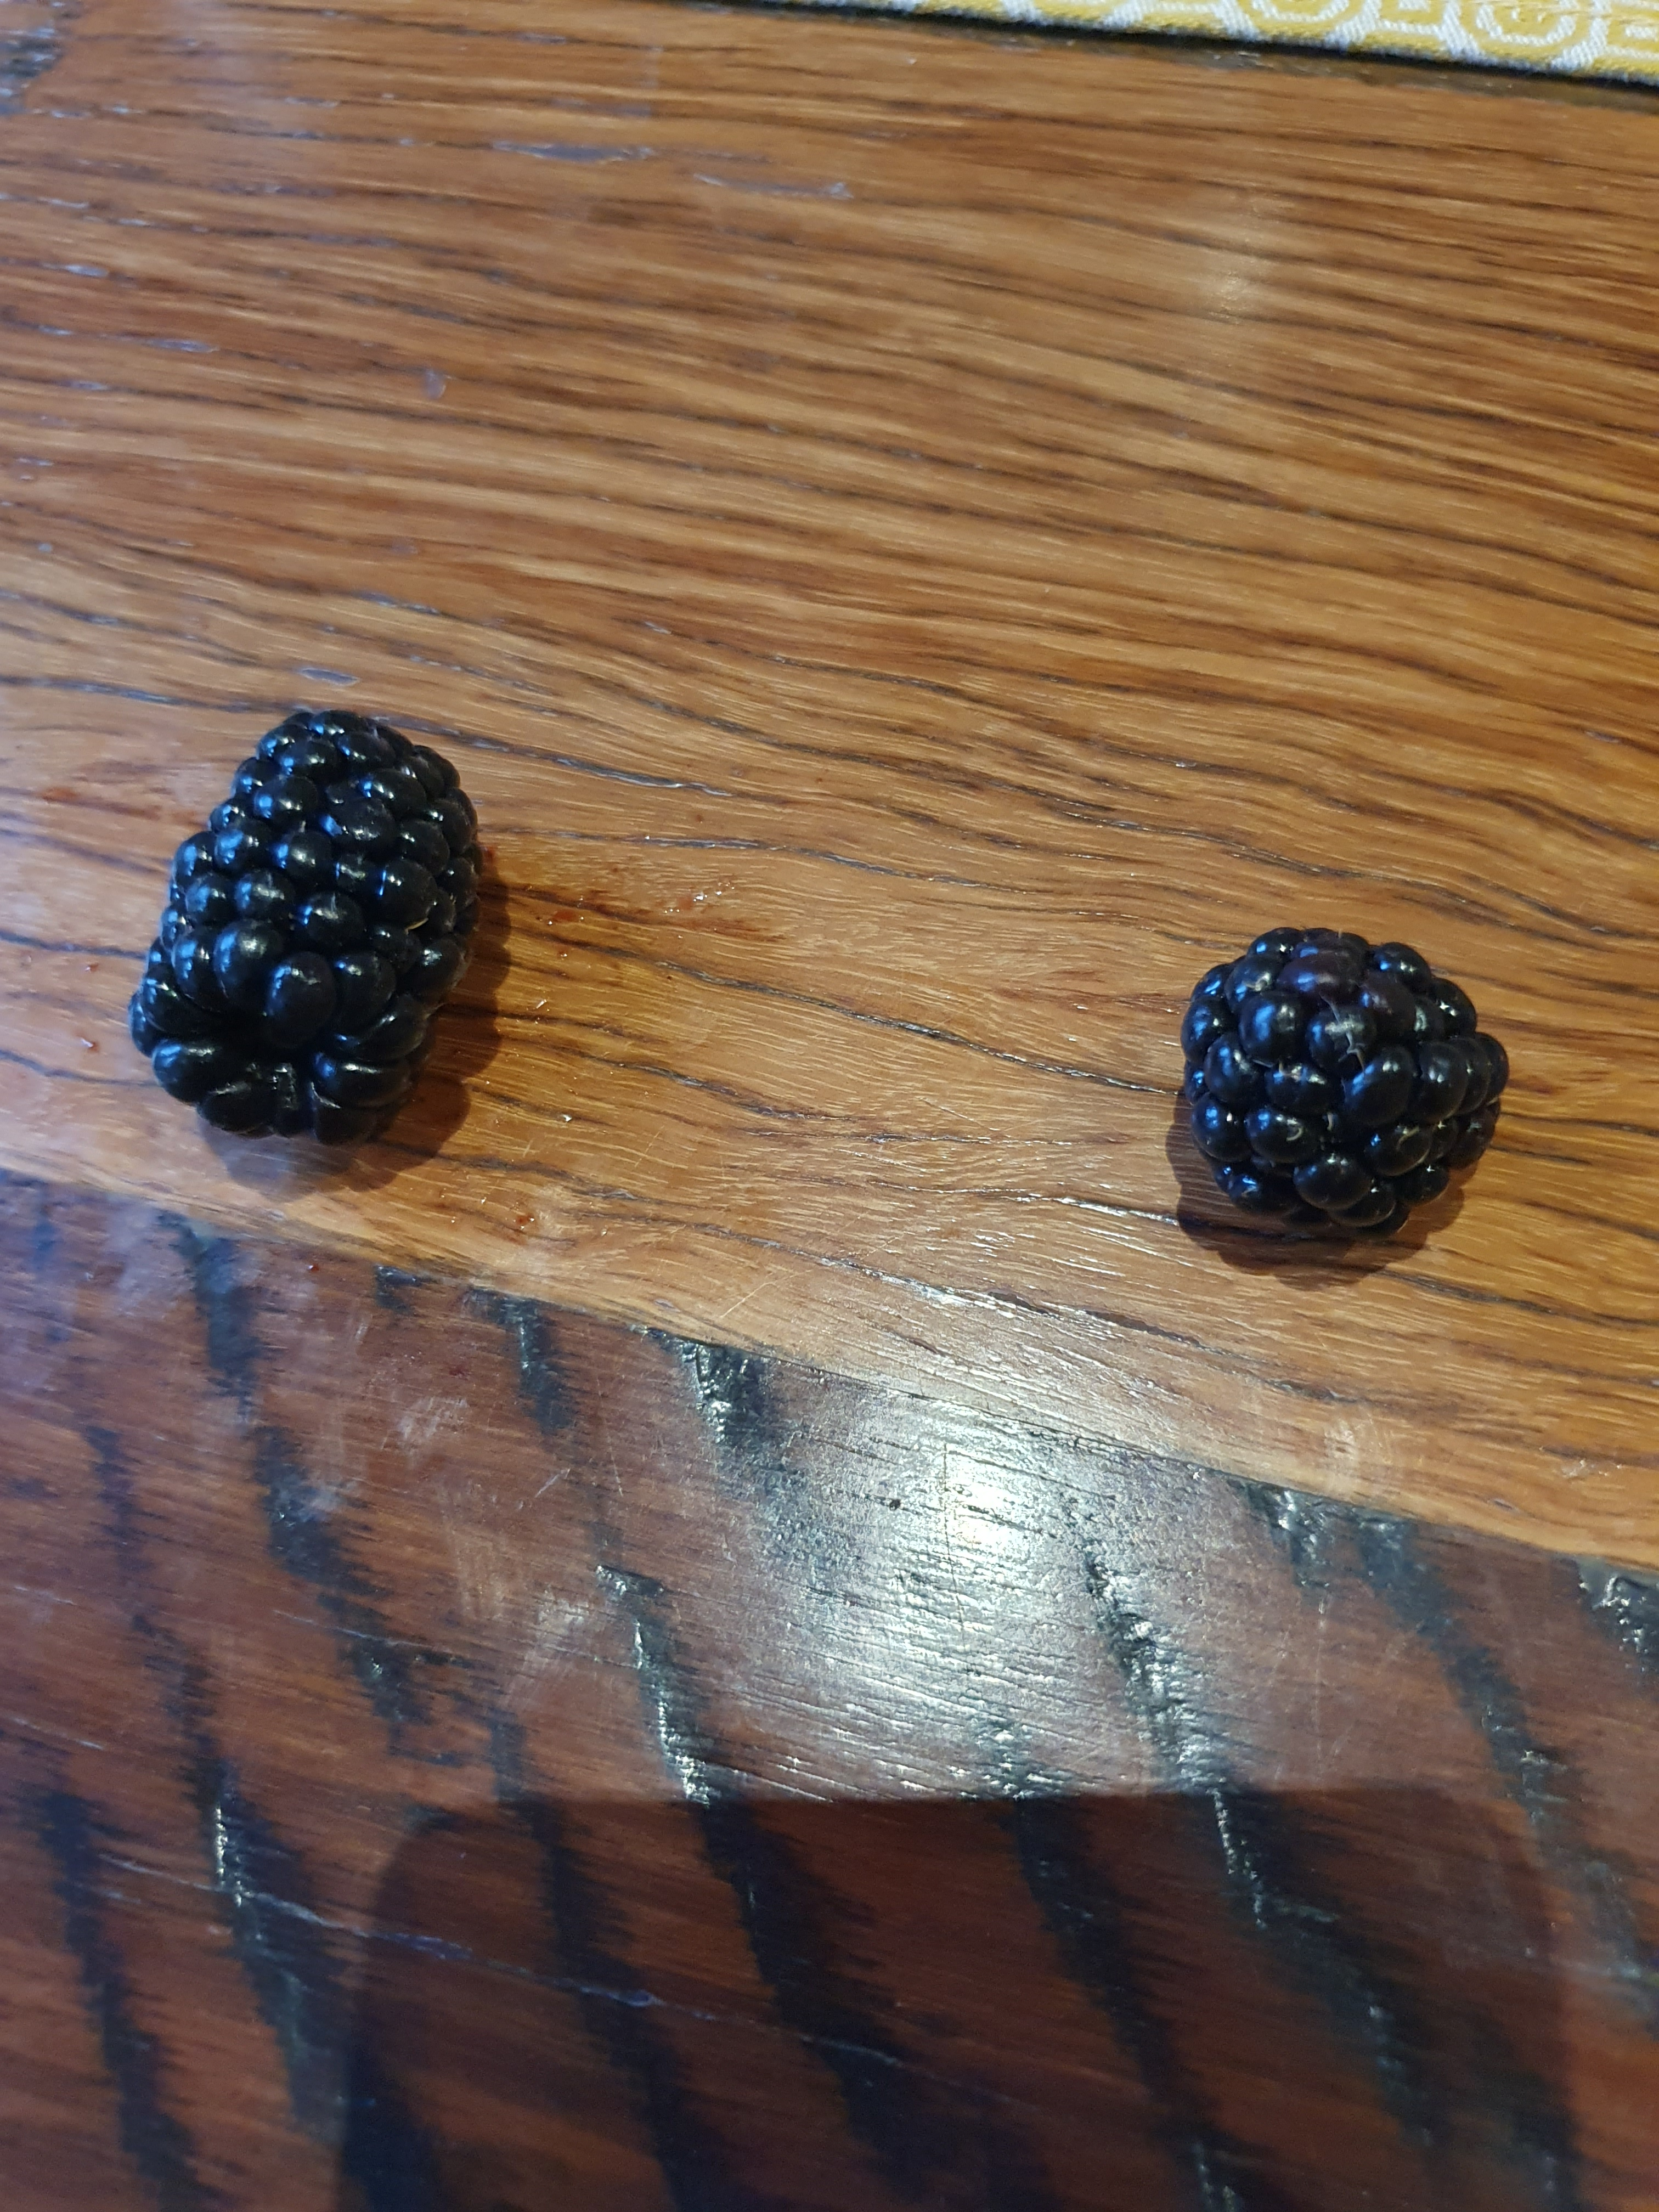blackberry: (112, 672, 497, 1193), (1122, 881, 1525, 1291)
